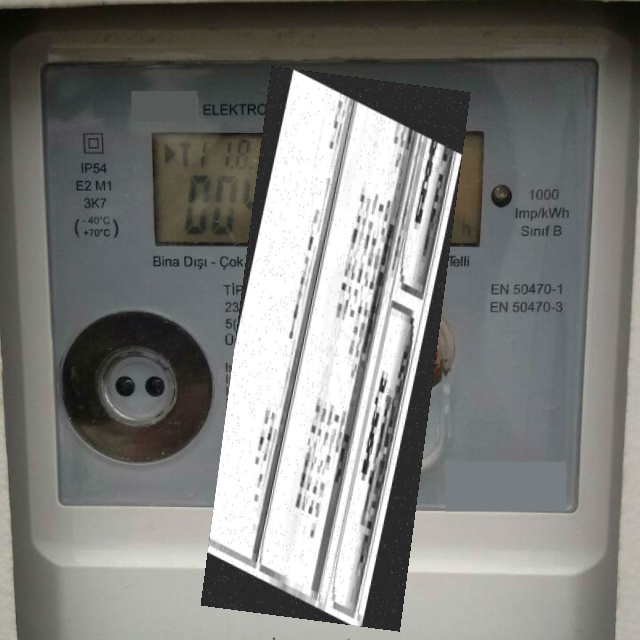electricity-bill: (201, 65, 471, 631)
